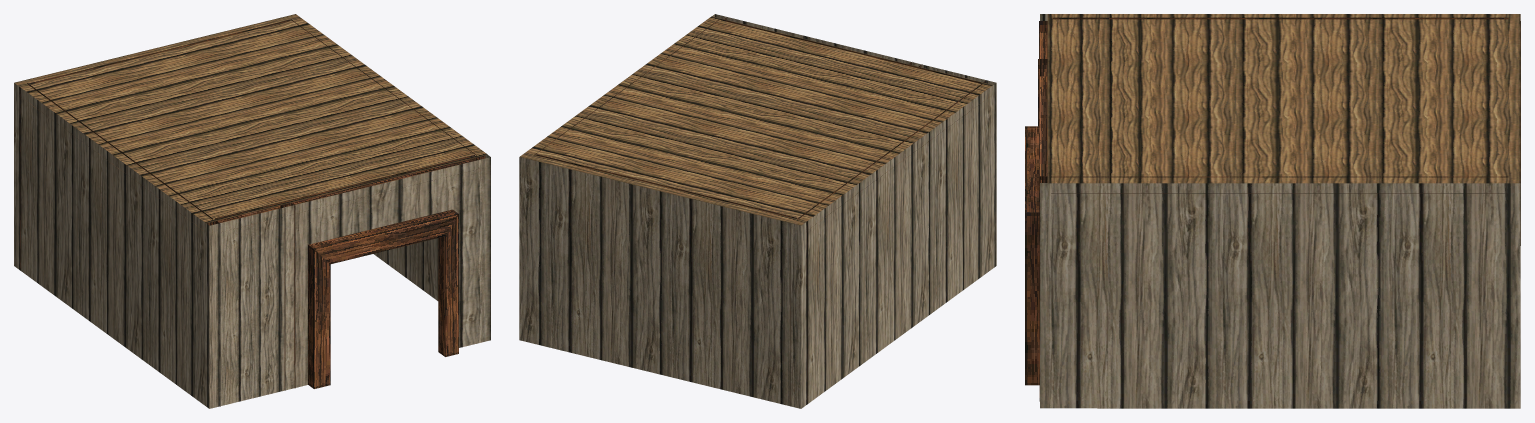
File: LAKETOWN_WAREHOUSE3_PS_WH3_WEAPONROOM__GX.obj
3 views of the same model, side by side, from view 1: azimuth 30°, elevation 25°; view 2: azimuth 150°, elevation 25°; view 3: azimuth 270°, elevation 25° (orthographic). The views are drawn at different scales.
Visible parts, largest first — view 1: _WeaponRoom__GX; view 2: _WeaponRoom__GX; view 3: _WeaponRoom__GX.
Part boxes in pixels (x1,y1,x2,y2): _WeaponRoom__GX: (14, 14, 490, 408); _WeaponRoom__GX: (519, 14, 996, 408); _WeaponRoom__GX: (1025, 14, 1520, 408).
Bounding box in the file's own units: 671 × 420 × 830.
